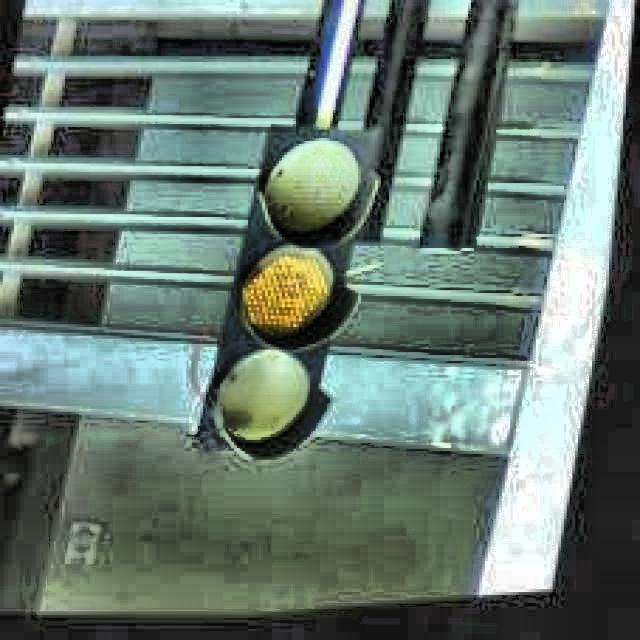yellow: (198, 124, 388, 474)
